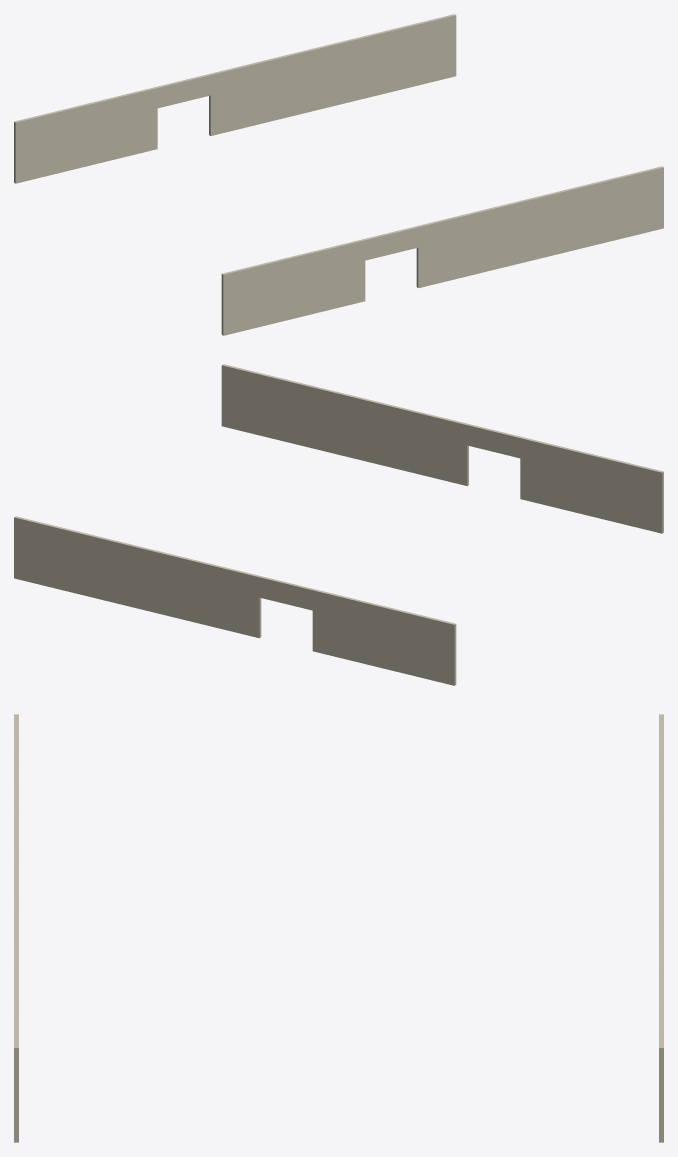
The model's file is StarAtlasSpecialtyFirstCommonsPatch.glb.
3 renders of one model, top to bottom at view 1: azimuth 30°, elevation 25°; view 2: azimuth 150°, elevation 25°; view 3: azimuth 270°, elevation 25°, orthographic. The views are drawn at different scales.
Parts seen in each view (by area): view 1: SA_D15_SouthWall_0, SA_D15_NorthWall_0; view 2: SA_D15_NorthWall_0, SA_D15_SouthWall_0; view 3: SA_D15_NorthWall_0, SA_D15_SouthWall_0.
Part boxes in pixels (x1,y1,x2,y2): SA_D15_SouthWall_0: [221, 166, 663, 335]; SA_D15_NorthWall_0: [14, 14, 456, 183]; SA_D15_NorthWall_0: [14, 516, 456, 685]; SA_D15_SouthWall_0: [221, 364, 663, 533]; SA_D15_NorthWall_0: [659, 714, 663, 1142]; SA_D15_SouthWall_0: [14, 714, 18, 1142].
Bounding box in the file's own units: 34 × 4.5 × 28.
1 material, 1 textured.
